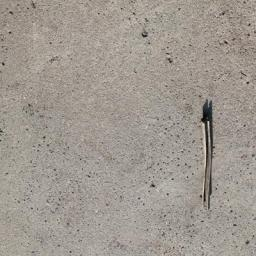FOD: (194, 102, 224, 214)
